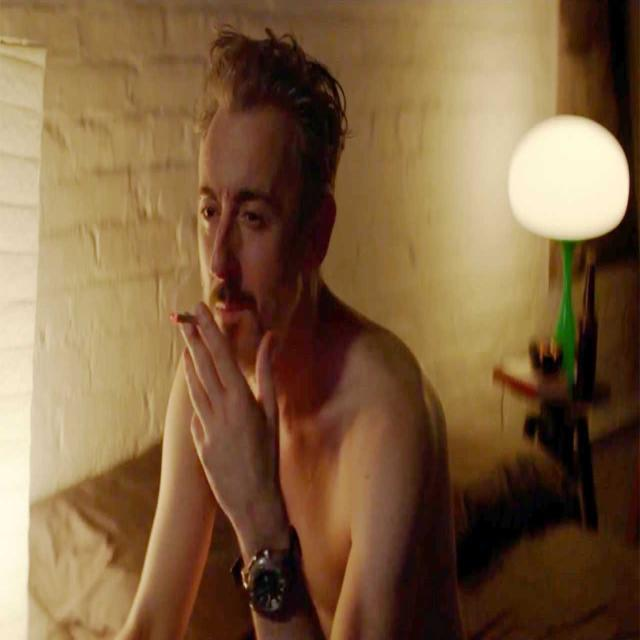Smooking: (160, 307, 199, 335)
